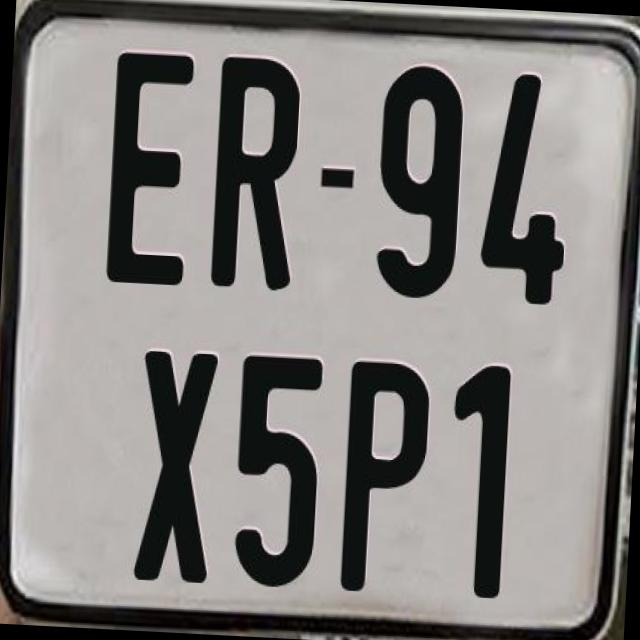1: (440, 362, 514, 604)
4: (474, 69, 574, 312)
5: (228, 352, 328, 596)
9: (369, 59, 463, 295)
E: (106, 52, 196, 288)
P: (336, 355, 432, 596)
R: (207, 54, 303, 293)
X: (130, 346, 222, 580)
